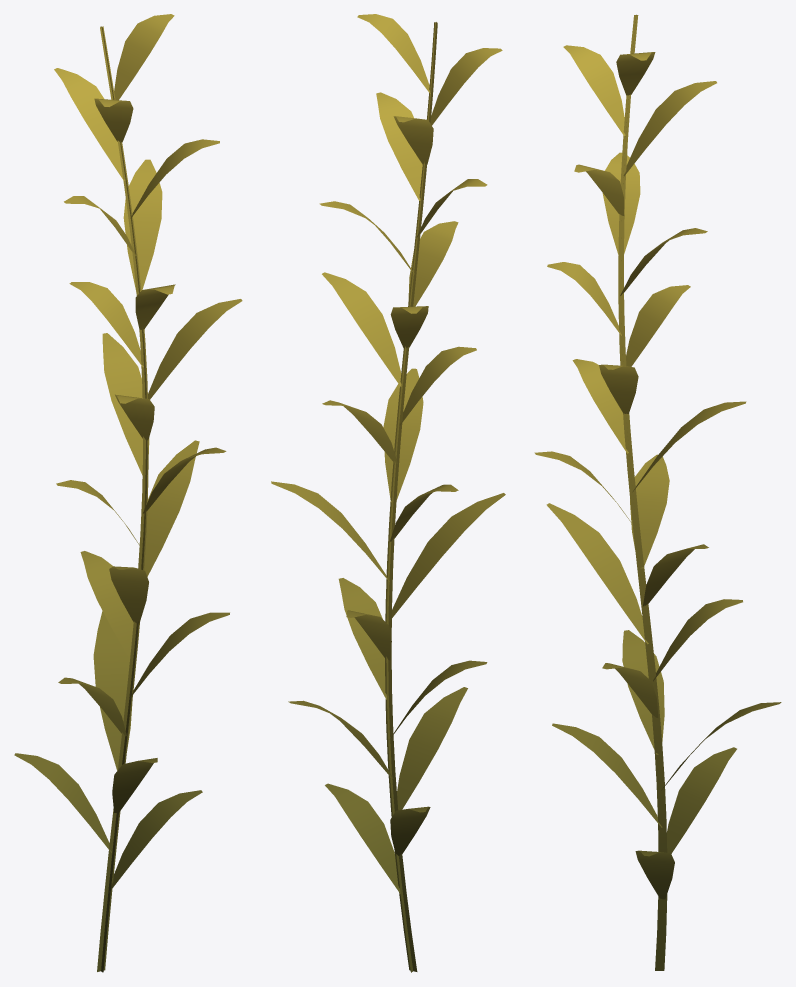
File: Plant_Kelp.glb
The picture shows the model from 3 angles, left to right: view 1: azimuth 30°, elevation 25°; view 2: azimuth 150°, elevation 25°; view 3: azimuth 270°, elevation 25°; orthographic projection.
Visible parts, largest first — view 1: Plant_Kelp; view 2: Plant_Kelp; view 3: Plant_Kelp.
Boxes of the visible parts, x1,y1,x2,y2 form: Plant_Kelp: [14, 14, 242, 972]; Plant_Kelp: [271, 14, 505, 972]; Plant_Kelp: [534, 14, 781, 970].
Bounding box in the file's own units: 1.97 × 10 × 2.36.
